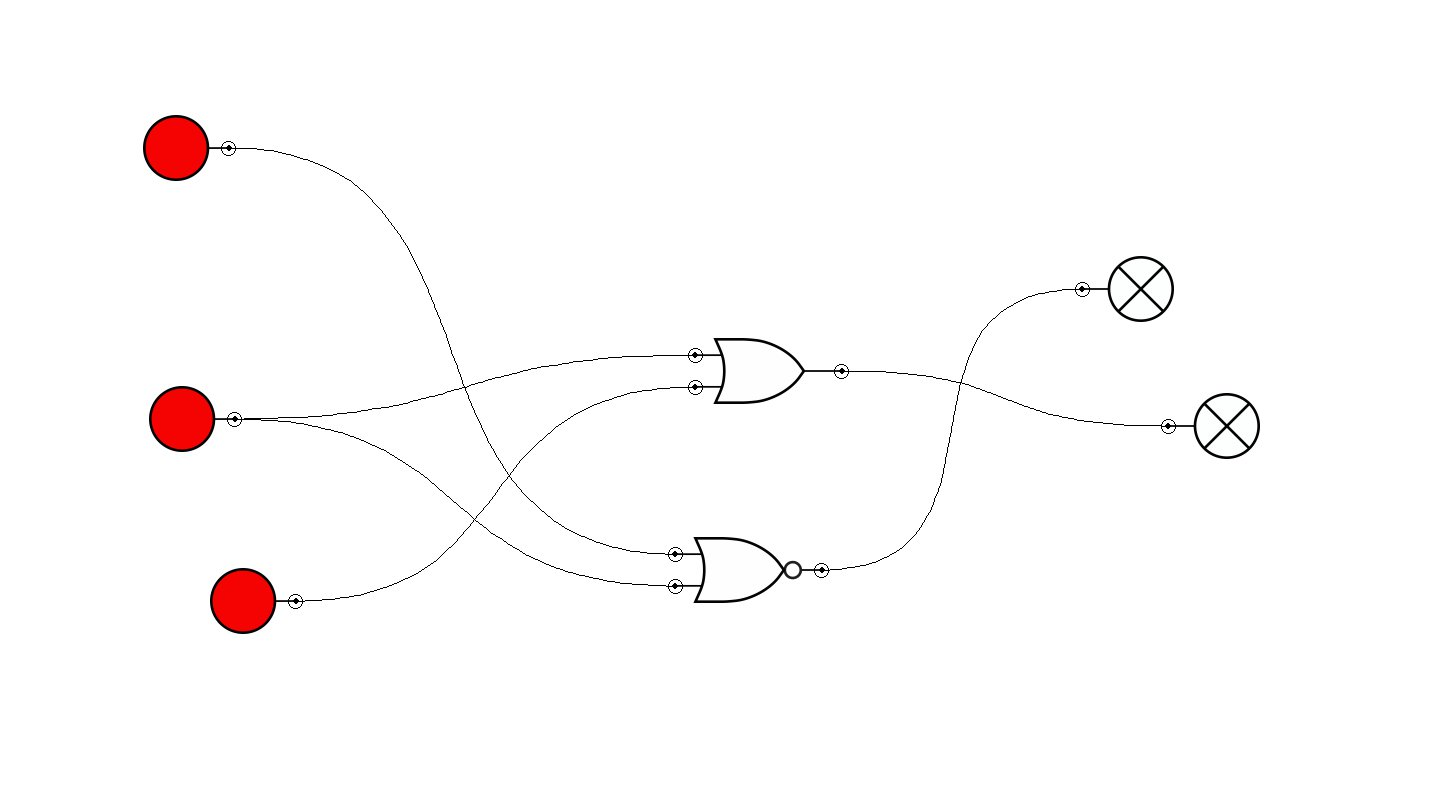bulb: (1075, 256, 1174, 322), (1161, 393, 1260, 459)
nor: (668, 537, 829, 603)
or: (688, 338, 849, 404)
switch_False: (149, 386, 242, 452), (210, 568, 303, 634), (143, 115, 236, 181)
